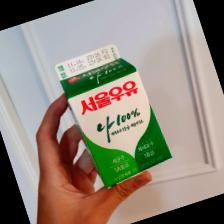milk: (53, 36, 177, 193)
